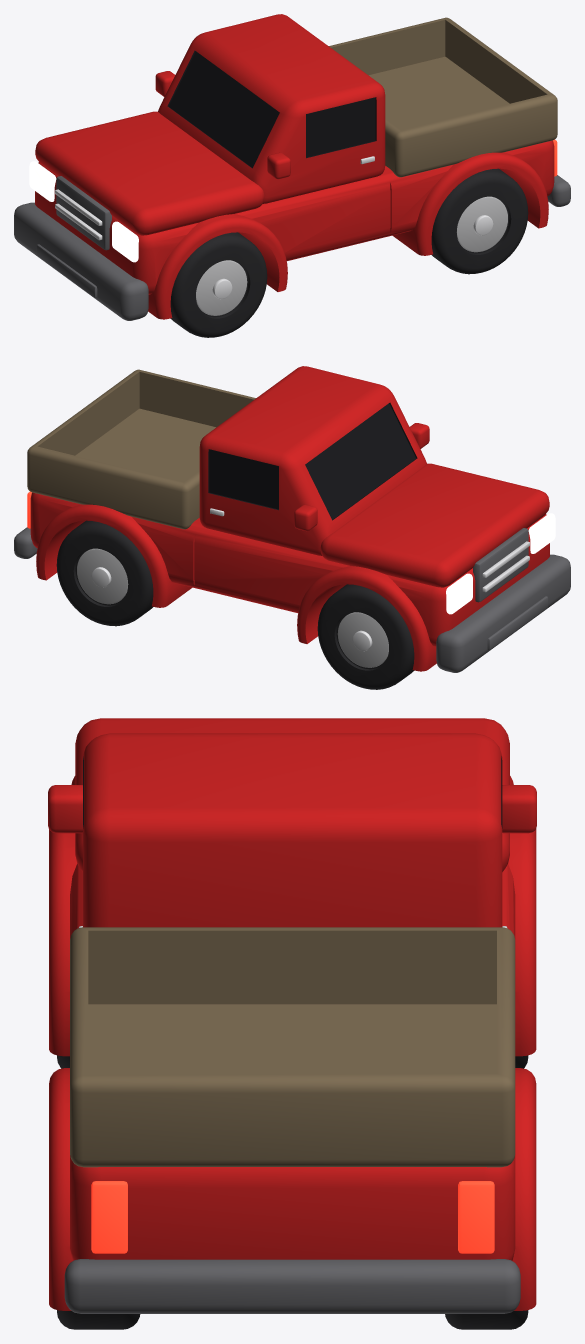
File: camioneta finca.fbx
3 views of the same model, one above another, from view 1: azimuth 30°, elevation 25°; view 2: azimuth 150°, elevation 25°; view 3: azimuth 270°, elevation 25° (orthographic). The views are drawn at different scales.
Visible parts, largest first — view 1: Cabina, Carroceria_inferior, Platon, Capo, Bomper_delantero, Llanta_del_der, Llanta_tras_der, Rin_tras_der, Rin_del_der, Parrilla, Toma_aire_bomper, Farola_der (+3 smaller); view 2: Cabina, Carroceria_inferior, Platon, Capo, Bomper_delantero, Llanta_del_izq, Llanta_tras_izq, Rin_tras_izq, Rin_del_izq, Parrilla, Toma_aire_bomper, Farola_izq (+3 smaller); view 3: Platon, Cabina, Carroceria_inferior, Bomper_trasero, Capo, Stop_der, Stop_izq, Espejo_der, Espejo_izq, Llanta_tras_izq, Llanta_tras_der.
Part boxes in pixels (x1,y1,x2,y2): Cabina: (158, 14, 385, 203); Carroceria_inferior: (35, 140, 554, 319); Platon: (329, 17, 557, 177); Capo: (35, 111, 264, 235); Bomper_delantero: (14, 202, 148, 320); Llanta_del_der: (170, 232, 267, 337); Llanta_tras_der: (431, 168, 528, 274); Rin_tras_der: (456, 196, 507, 252); Rin_del_der: (196, 260, 247, 315); Parrilla: (56, 176, 111, 250); Toma_aire_bomper: (36, 244, 97, 297); Farola_der: (112, 221, 138, 262); Cabina: (199, 366, 426, 555); Carroceria_inferior: (30, 492, 549, 671); Platon: (27, 369, 255, 529); Capo: (320, 463, 549, 587); Bomper_delantero: (436, 554, 570, 672); Llanta_del_izq: (317, 584, 414, 689); Llanta_tras_izq: (56, 520, 153, 626); Rin_tras_izq: (77, 548, 128, 604); Rin_del_izq: (337, 612, 388, 667); Parrilla: (473, 528, 528, 602); Toma_aire_bomper: (487, 596, 548, 649); Farola_izq: (446, 573, 472, 614); Platon: (70, 927, 515, 1167); Cabina: (83, 733, 502, 927); Carroceria_inferior: (49, 776, 536, 1310); Bomper_trasero: (64, 1259, 520, 1313); Capo: (75, 718, 509, 871); Stop_der: (91, 1181, 127, 1253); Stop_izq: (458, 1181, 494, 1253); Espejo_der: (48, 785, 82, 833); Espejo_izq: (502, 785, 536, 833); Llanta_tras_izq: (445, 1310, 528, 1329); Llanta_tras_der: (57, 1310, 140, 1329).
Size of the model in its own units: 398 by 175 by 187.
